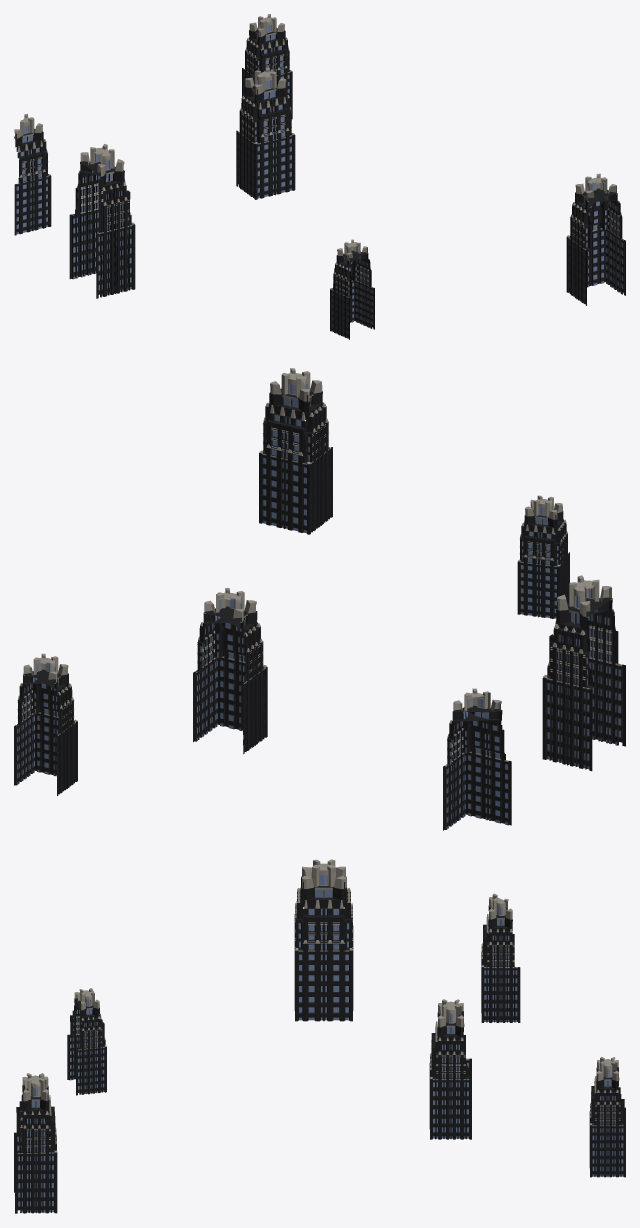
The model's file is New_York_track_building_city_02.dae.
The picture shows the model from 3 angles, top to bottom: view 1: azimuth 30°, elevation 25°; view 2: azimuth 150°, elevation 25°; view 3: azimuth 270°, elevation 25°; orthographic projection. The views are drawn at different scales.
Visible parts, largest first — view 1: Building_city_02_01, Building_city_02_02, Building_city_02_05, Building_city_02_03, Building_city_02_06, Building_city_02_04; view 2: Building_city_02_01, Building_city_02_05, Building_city_02_02, Building_city_02_03, Building_city_02_04, Building_city_02_06; view 3: Building_city_02_01, Building_city_02_05, Building_city_02_02, Building_city_02_03, Building_city_02_04, Building_city_02_06.
Part boxes in pixels (bbox=[...]): Building_city_02_01: bbox=[69, 144, 135, 298]; Building_city_02_02: bbox=[236, 67, 295, 199]; Building_city_02_05: bbox=[566, 173, 625, 305]; Building_city_02_03: bbox=[14, 114, 51, 235]; Building_city_02_06: bbox=[330, 239, 374, 339]; Building_city_02_04: bbox=[242, 14, 292, 119]; Building_city_02_01: bbox=[542, 575, 625, 771]; Building_city_02_05: bbox=[259, 368, 332, 534]; Building_city_02_02: bbox=[193, 588, 267, 754]; Building_city_02_03: bbox=[443, 688, 511, 830]; Building_city_02_04: bbox=[14, 653, 77, 795]; Building_city_02_06: bbox=[517, 495, 569, 618]; Building_city_02_01: bbox=[294, 859, 353, 1021]; Building_city_02_05: bbox=[14, 1073, 57, 1213]; Building_city_02_02: bbox=[429, 999, 471, 1139]; Building_city_02_03: bbox=[481, 893, 520, 1022]; Building_city_02_04: bbox=[589, 1057, 625, 1177]; Building_city_02_06: bbox=[67, 988, 106, 1095].
Bounding box in the file's own units: 28.15 × 34.27 × 9.12.
3 materials, 3 textured.
